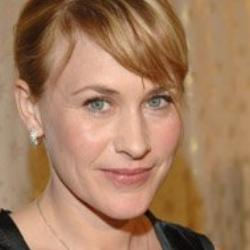face: (2, 2, 205, 231)
